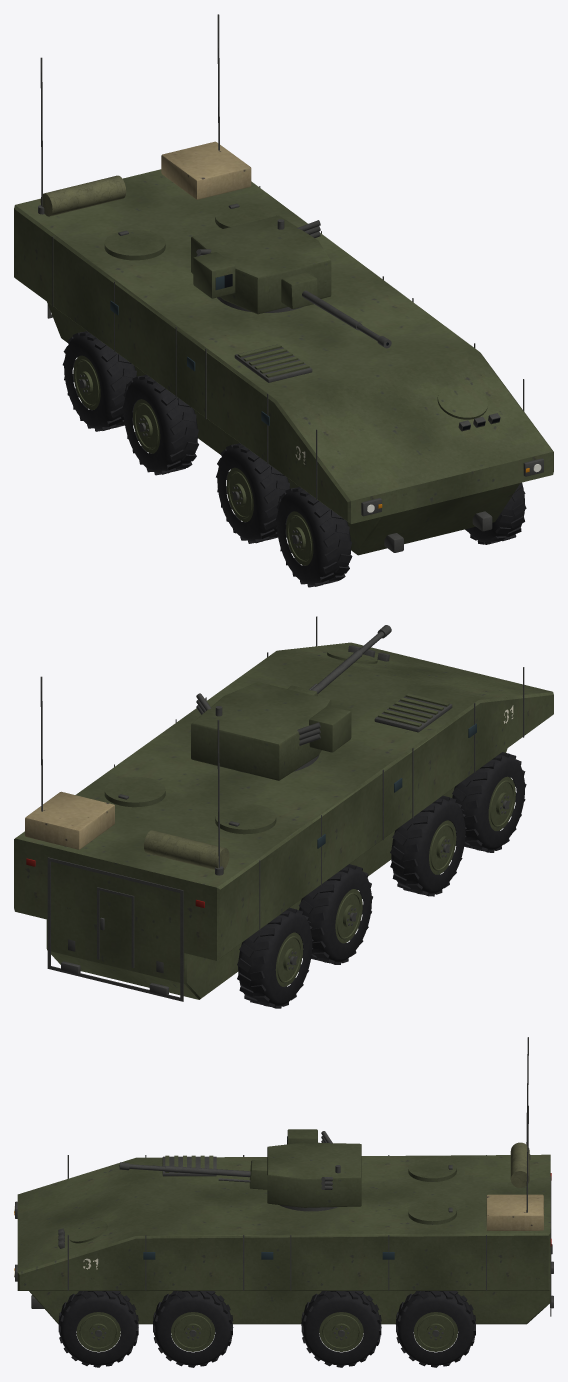
File: apc-8x8.glb
3 views of the same model, one above another, from view 1: azimuth 30°, elevation 25°; view 2: azimuth 150°, elevation 25°; view 3: azimuth 270°, elevation 25° (orthographic). The views are drawn at different scales.
Visible parts, largest first — view 1: Hull, Turret, Wheel_3R, Wheel_1R, Wheel_2R, Wheel_4R, Gun, Wheel_1L; view 2: Hull, Turret, Wheel_2R, Wheel_4R, Wheel_1R, Wheel_3R, Gun; view 3: Hull, Turret, Wheel_1L, Wheel_3L, Wheel_4L, Wheel_2L, Gun.
Boxes of the visible parts, x1,y1,x2,y2 form: Hull: [14, 14, 553, 555]; Turret: [191, 215, 331, 314]; Wheel_3R: [122, 374, 198, 475]; Wheel_1R: [275, 486, 352, 587]; Wheel_2R: [216, 443, 290, 543]; Wheel_4R: [62, 331, 136, 431]; Gun: [281, 272, 391, 348]; Wheel_1L: [465, 482, 526, 544]; Hull: [14, 616, 553, 1001]; Turret: [191, 682, 351, 780]; Wheel_2R: [390, 795, 466, 896]; Wheel_4R: [237, 908, 313, 1008]; Wheel_1R: [451, 752, 526, 852]; Wheel_3R: [298, 864, 372, 964]; Gun: [288, 625, 391, 696]; Hull: [14, 1037, 553, 1324]; Turret: [267, 1129, 361, 1211]; Wheel_1L: [58, 1291, 138, 1367]; Wheel_3L: [301, 1291, 381, 1367]; Wheel_4L: [395, 1291, 475, 1367]; Wheel_2L: [153, 1291, 233, 1367]; Gun: [119, 1160, 267, 1189].
Size of the model in its own units: 2.88 by 4.22 by 8.01.
11 materials, 6 textured.
